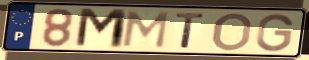8: (41, 7, 76, 48)
G: (254, 13, 295, 53)
M: (72, 7, 130, 51), (120, 10, 172, 50)
O: (210, 11, 255, 52)
T: (174, 12, 208, 50)
